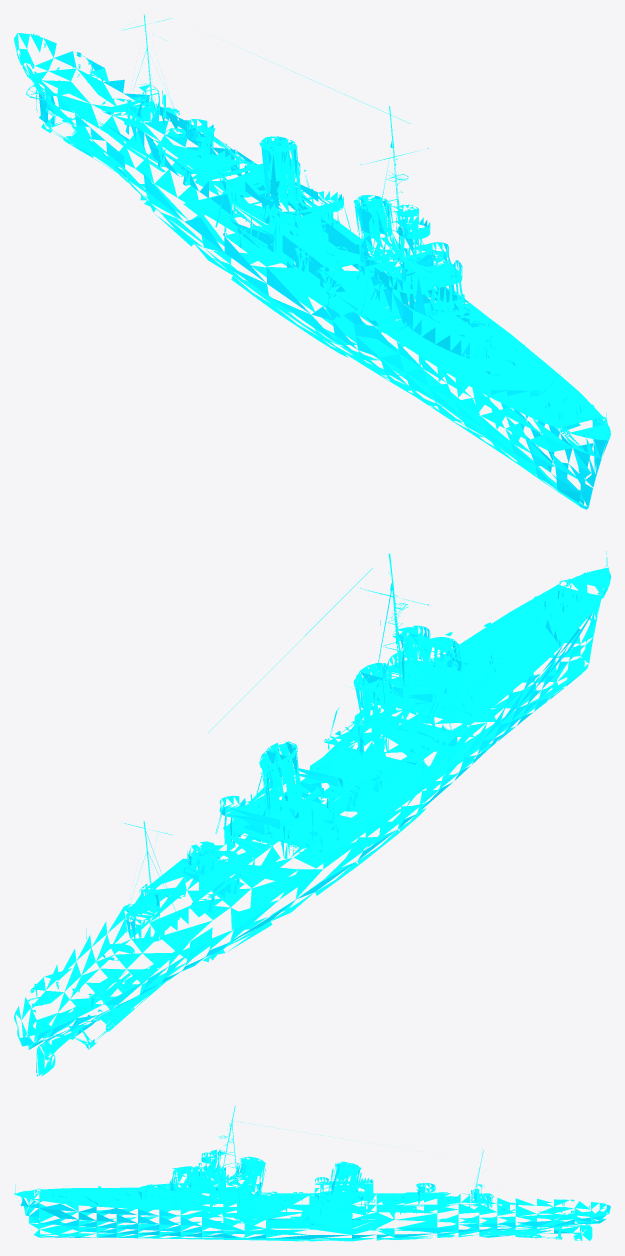
The picture shows the model from 3 angles, top to bottom: view 1: azimuth 30°, elevation 25°; view 2: azimuth 150°, elevation 25°; view 3: azimuth 270°, elevation 25°; orthographic projection. The views are drawn at different scales.
Size of the model in its own units: 0.9315 by 2.33 by 9.32.
